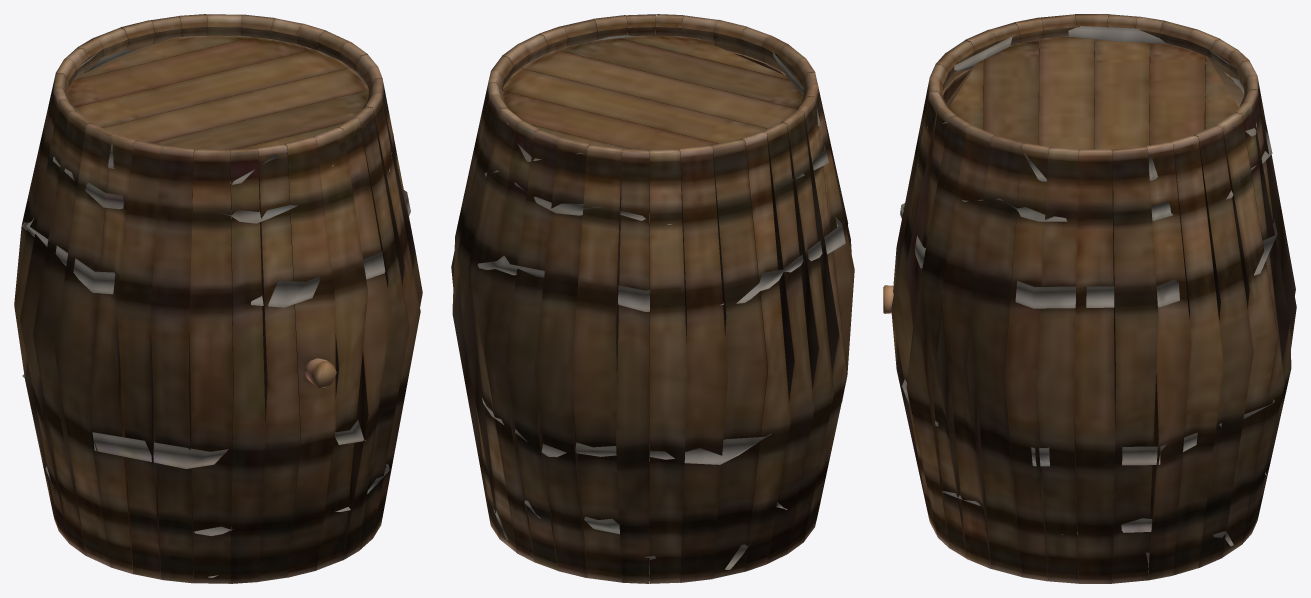
The model's file is wine_barrel_01.glb.
3 renders of one model, left to right at view 1: azimuth 30°, elevation 25°; view 2: azimuth 150°, elevation 25°; view 3: azimuth 270°, elevation 25°, orthographic.
Visible parts, largest first — view 1: wine_barrel_01, wine_barrel_01_Lid, wine_barrel_01_bung; view 2: wine_barrel_01, wine_barrel_01_Lid; view 3: wine_barrel_01, wine_barrel_01_Lid.
Part boxes in pixels (box(x1,y1,x2,y2)): wine_barrel_01: box(14, 14, 422, 583); wine_barrel_01_Lid: box(67, 36, 368, 149); wine_barrel_01_bung: box(304, 358, 336, 387); wine_barrel_01: box(451, 14, 854, 583); wine_barrel_01_Lid: box(502, 36, 803, 150); wine_barrel_01: box(891, 14, 1296, 583); wine_barrel_01_Lid: box(946, 36, 1244, 149).
Bounding box in the file's own units: 0.7419 × 0.8695 × 0.7553.
Materials: 1 (1 with a texture image).
